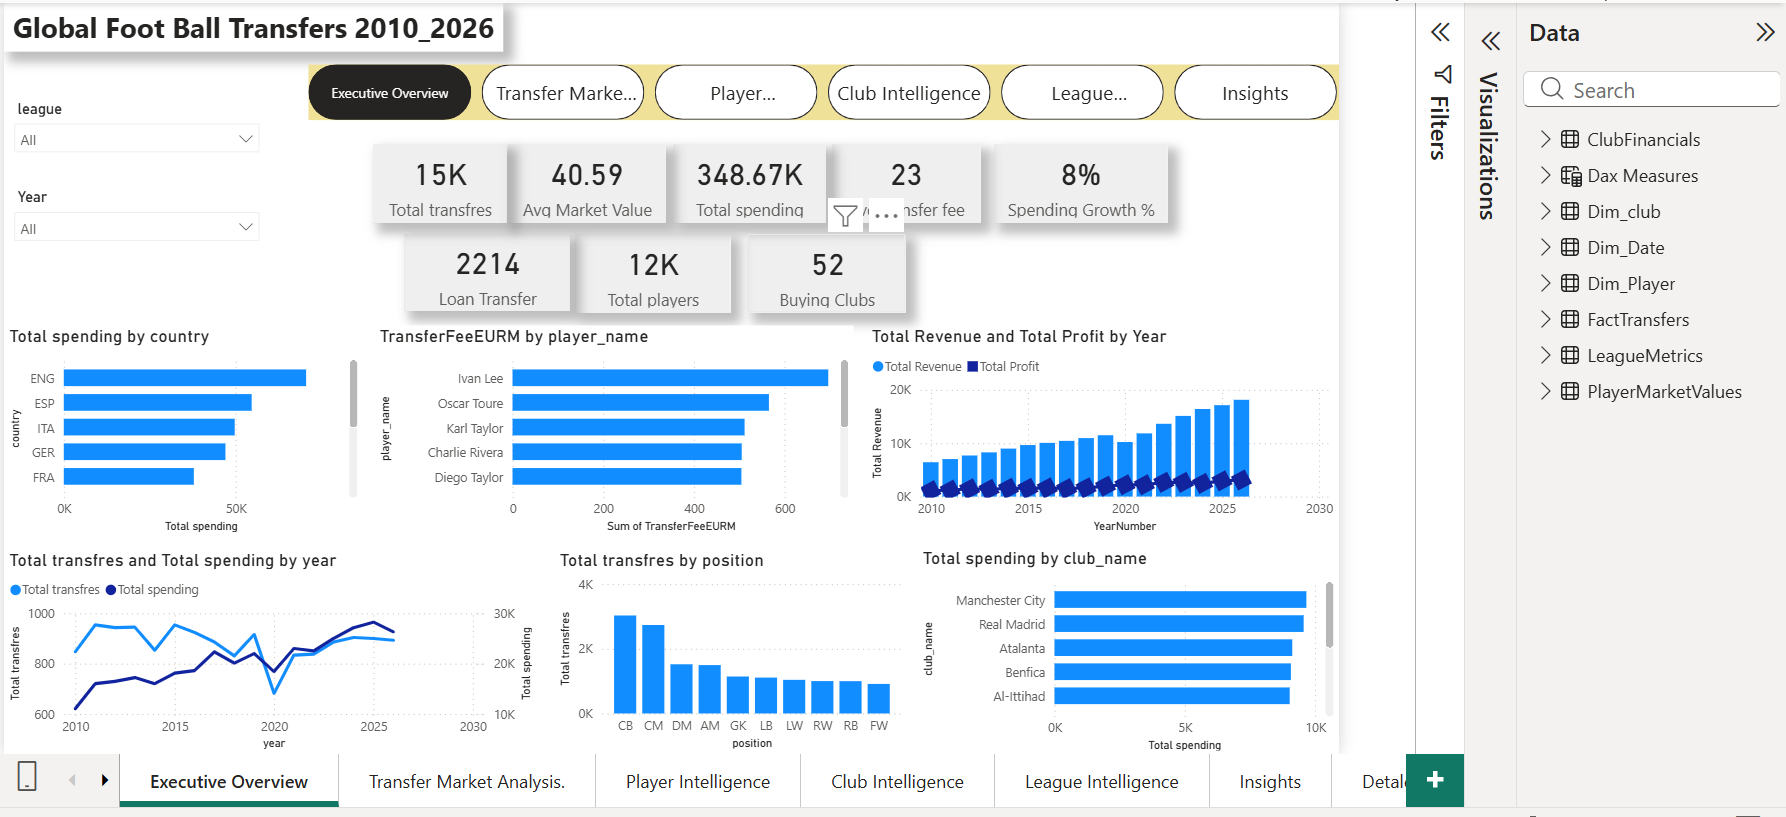

Layout of this report page (visuals, bound fields, positions):
{"tool":"powerbi","page":{"name":"Executive Overview","canvas":[1280,720],"ordinal":0},"visuals":[{"type":"card","fields":{"Values":["Dax Measures.Avg Market Value"]},"box":[507.6,112.2,151,76.2],"z":2000},{"type":"card","fields":{"Values":["Dax Measures.Loan Transfer"]},"box":[655.8,201.3,158.2,74.8],"z":3000},{"type":"card","fields":{"Values":["Dax Measures.Avg transfer fee"]},"box":[826.9,113.6,142.4,76.2],"z":4000},{"type":"card","fields":{"Values":["Dax Measures.Total spending"]},"box":[667.3,113.6,146.7,76.2],"z":5000},{"type":"lineChart","fields":{"Y":["Dax Measures.Total transfres"],"Category":["Dim_Date.year_number"],"Y2":["Dax Measures.Total spending"]},"box":[0,523.9,511.2,196.8],"z":6000},{"type":"card","fields":{"Values":["Dax Measures.Total transfres"]},"box":[361.9,113.6,128.7,75.7],"z":7000},{"type":"columnChart","fields":{"Category":["Dim_Player.position"],"Y":["Dax Measures.Total transfres"]},"box":[527.3,524.1,337.3,196.4],"z":8000},{"type":"clusteredBarChart","fields":{"Category":["Dim_club.club_name"],"Y":["Dax Measures.Total spending"]},"box":[875.7,522.6,403.8,199.5],"z":9000},{"type":"lineClusteredColumnComboChart","title":"Total Revenue and Total Profit by Year","fields":{"Y":["Dax Measures.Total Revenue"],"Y2":["Dax Measures.Total Profit"],"Category":["ClubFinancials.YearNumber"]},"box":[826.6,308.8,452.9,202.7],"z":10000},{"type":"card","fields":{"Values":["Dax Measures.Spending Growth %"]},"box":[969.3,112.2,166.8,76.2],"z":11000},{"type":"card","fields":{"Values":["Dax Measures.Buying Clubs"]},"box":[983.7,199.9,152.4,76.2],"z":12000},{"type":"card","fields":{"Values":["Dax Measures.Total players"]},"box":[821.2,199.9,148.1,76.2],"z":13000},{"type":"barChart","title":"TransferFeeEURM by player_name","fields":{"Category":["Dim_Player.player_name"],"Y":["Sum(FactTransfers.TransferFeeEURM)"]},"box":[354.7,308.8,459.2,202.7],"z":14000},{"type":"barChart","fields":{"Category":["Dim_club.country"],"Y":["Dax Measures.Total spending"]},"box":[0,308.8,343.6,202.7],"z":15000},{"type":"slicer","fields":{"Values":["Dim_club.league"]},"box":[0,66.5,254.9,93.4],"z":16000},{"type":"slicer","fields":{"Values":["Dim_Date.Full_date.Variation.Date Hierarchy.Year"]},"box":[0,172.6,254.9,87.1],"z":17000},{"type":"textbox","box":[490.6,0,352.8,84.8],"z":17001}]}

Visuals, with their boxes on the page's 1280x720 design canvas (x1, y1, x2, y2). These are canvas units, not pixel positions in the 1786x817 screenshot, which may show the page scaled, cropped or inside an application window:
card - Dax Measures.Avg Market Value: [508, 112, 659, 188]
card - Dax Measures.Loan Transfer: [656, 201, 814, 276]
card - Dax Measures.Avg transfer fee: [827, 114, 969, 190]
card - Dax Measures.Total spending: [667, 114, 814, 190]
lineChart - Dax Measures.Total transfres x Dim_Date.year_number: [0, 524, 511, 721]
card - Dax Measures.Total transfres: [362, 114, 491, 189]
columnChart - Dim_Player.position x Dax Measures.Total transfres: [527, 524, 865, 720]
clusteredBarChart - Dim_club.club_name x Dax Measures.Total spending: [876, 523, 1280, 722]
"Total Revenue and Total Profit by Year" lineClusteredColumnComboChart: [827, 309, 1280, 512]
card - Dax Measures.Spending Growth %: [969, 112, 1136, 188]
card - Dax Measures.Buying Clubs: [984, 200, 1136, 276]
card - Dax Measures.Total players: [821, 200, 969, 276]
"TransferFeeEURM by player_name" barChart: [355, 309, 814, 512]
barChart - Dim_club.country x Dax Measures.Total spending: [0, 309, 344, 512]
slicer - Dim_club.league: [0, 66, 255, 160]
slicer - Dim_Date.Full_date.Variation.Date Hierarchy.Year: [0, 173, 255, 260]
textbox: [491, 0, 843, 85]
